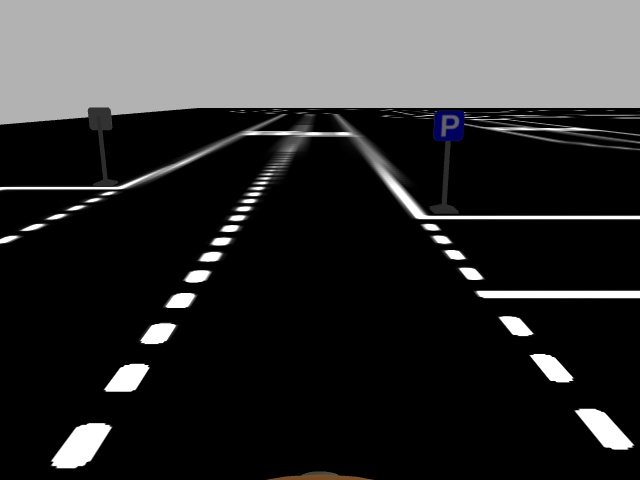parking: (432, 108, 465, 141)
